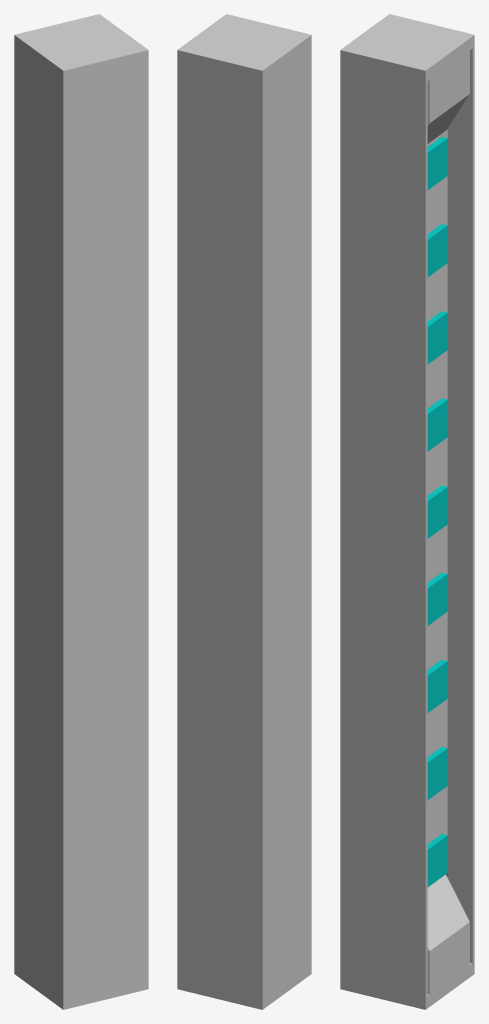
3 views of the same model, side by side, from view 1: azimuth 30°, elevation 25°; view 2: azimuth 150°, elevation 25°; view 3: azimuth 330°, elevation 25° (orthographic).
Visible parts, largest first — view 1: Cube; view 2: Cube; view 3: Cube.
Part boxes in pixels (x1,y1,x2,y2): Cube: [14, 14, 148, 1009]; Cube: [177, 14, 311, 1009]; Cube: [340, 14, 474, 1009].
Bounding box in the file's own units: 200 × 2104 × 200.
